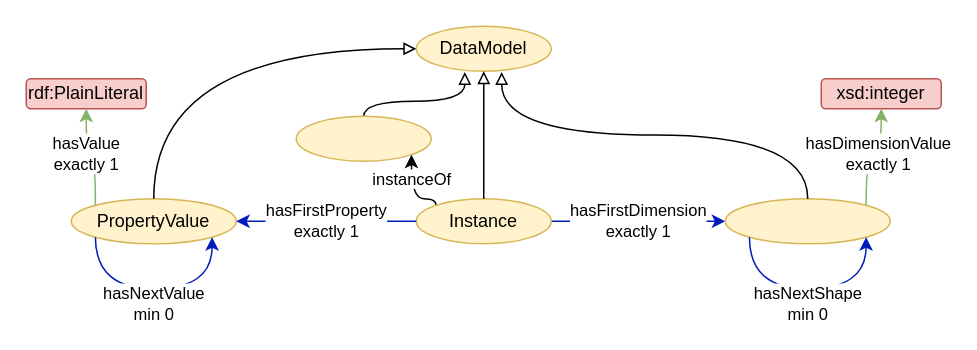
Some shapes in this 977 by 350 pixel diagram are drawn without their labels. The centre of each missing label's shape, as x and y in pixels:
"DimensionValue" goes at (x=807, y=220).
"Entity" goes at (x=363, y=138).
